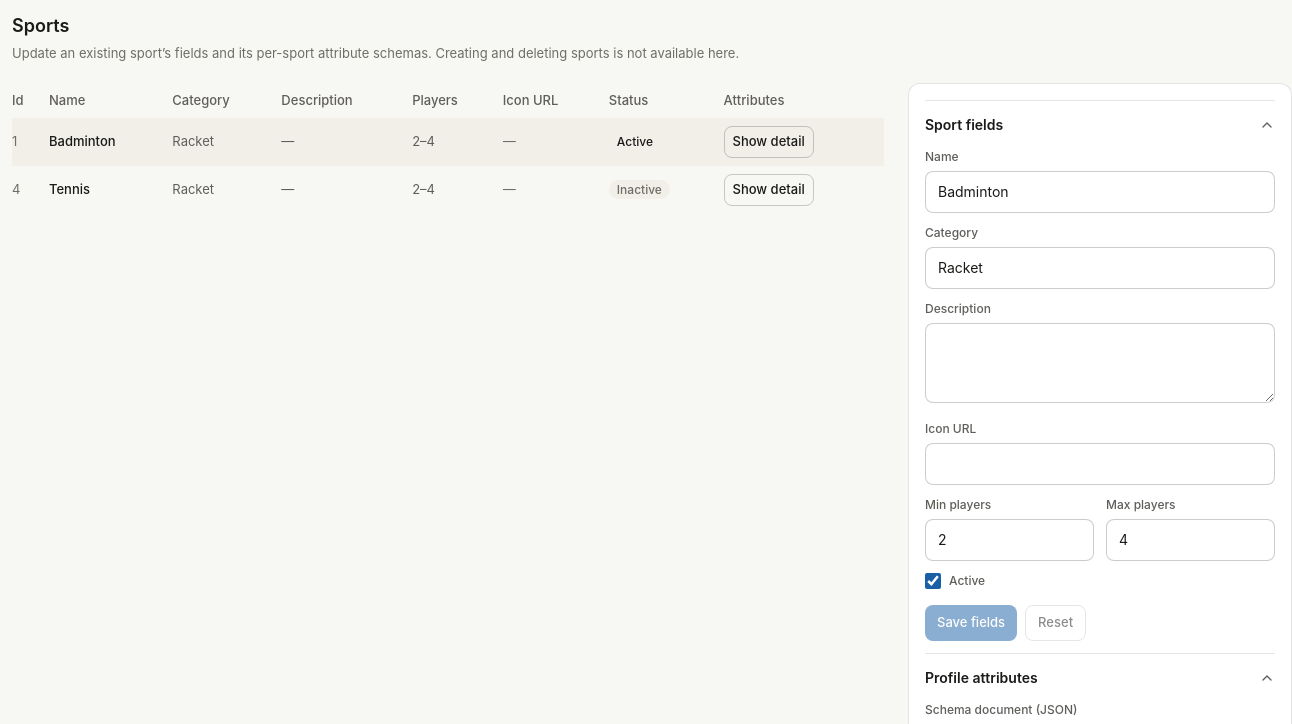
Scenario: AdminSportsPage › renders the server message verbatim when a field save is rejected
Step 1. Replace the text in the field labelled "Name" with "X" → (1100, 192), box [925,171,1275,213]
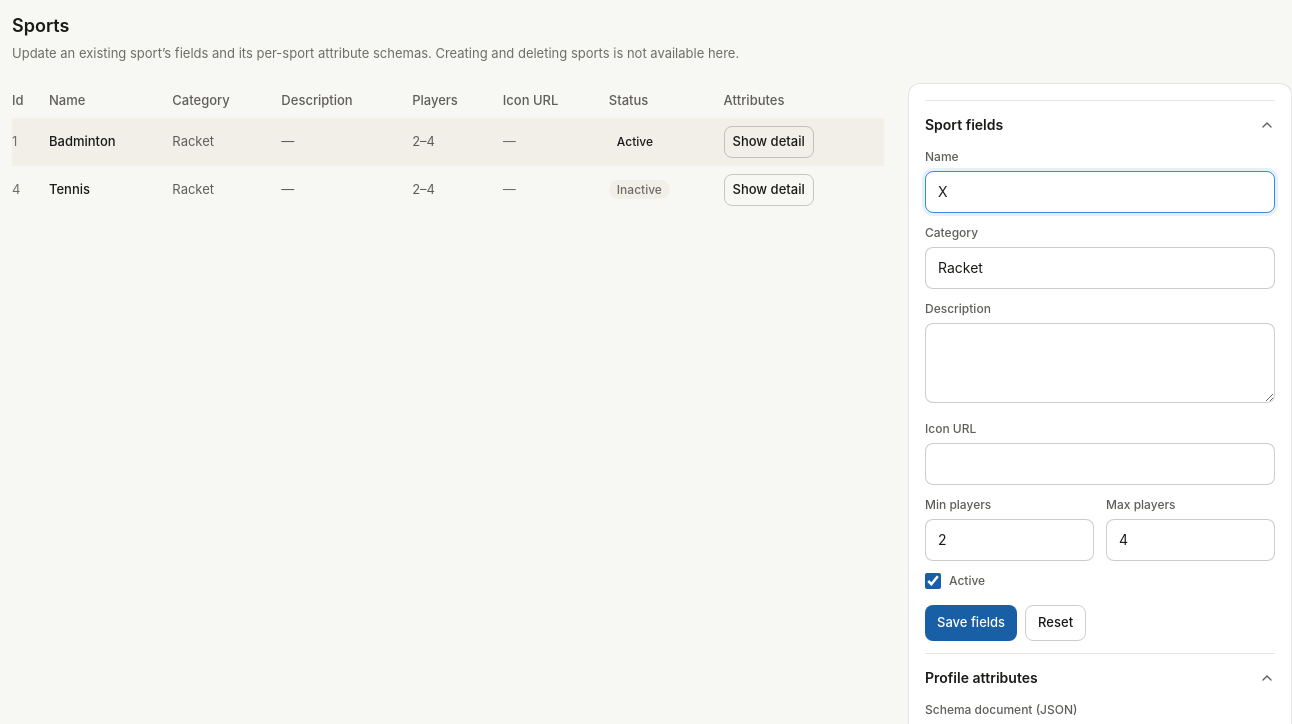
Step 2. Click the button "Save fields" → (971, 623), box [925,605,1017,641]
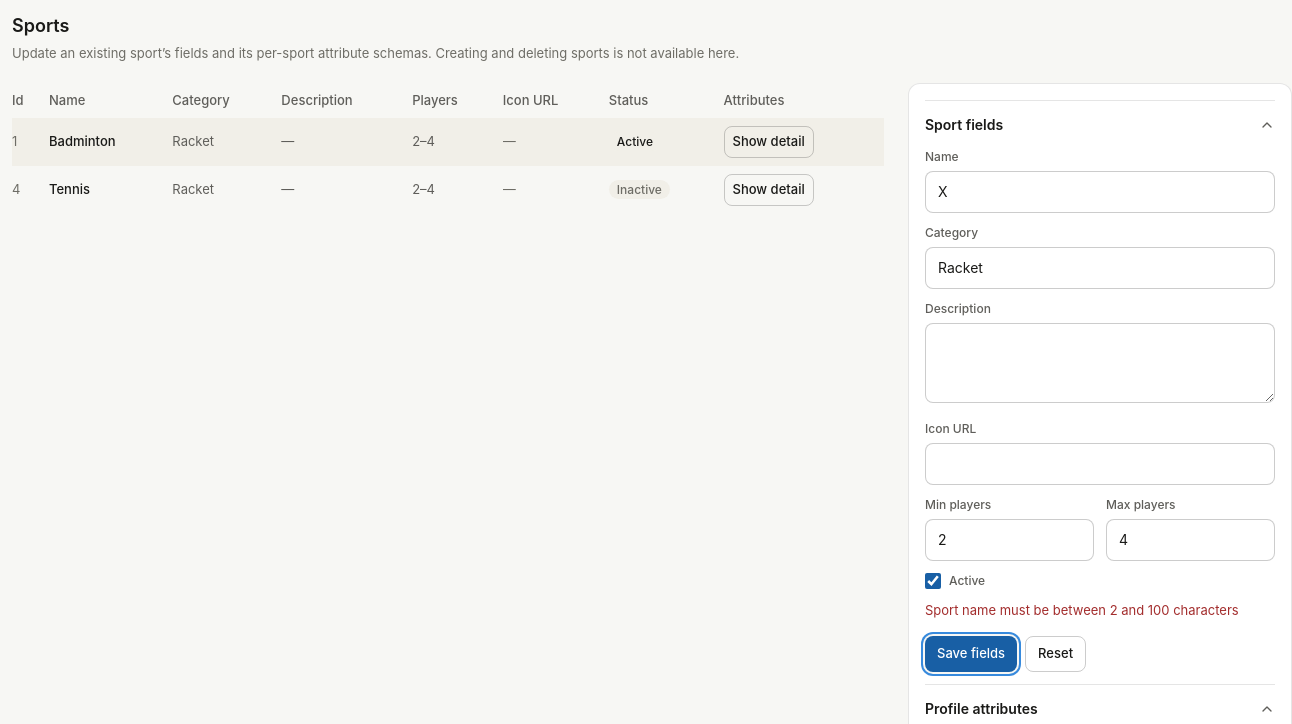
Expected: the text "Sport name must be between 2 and 100 characters" is shown, [925,601,1275,620]
